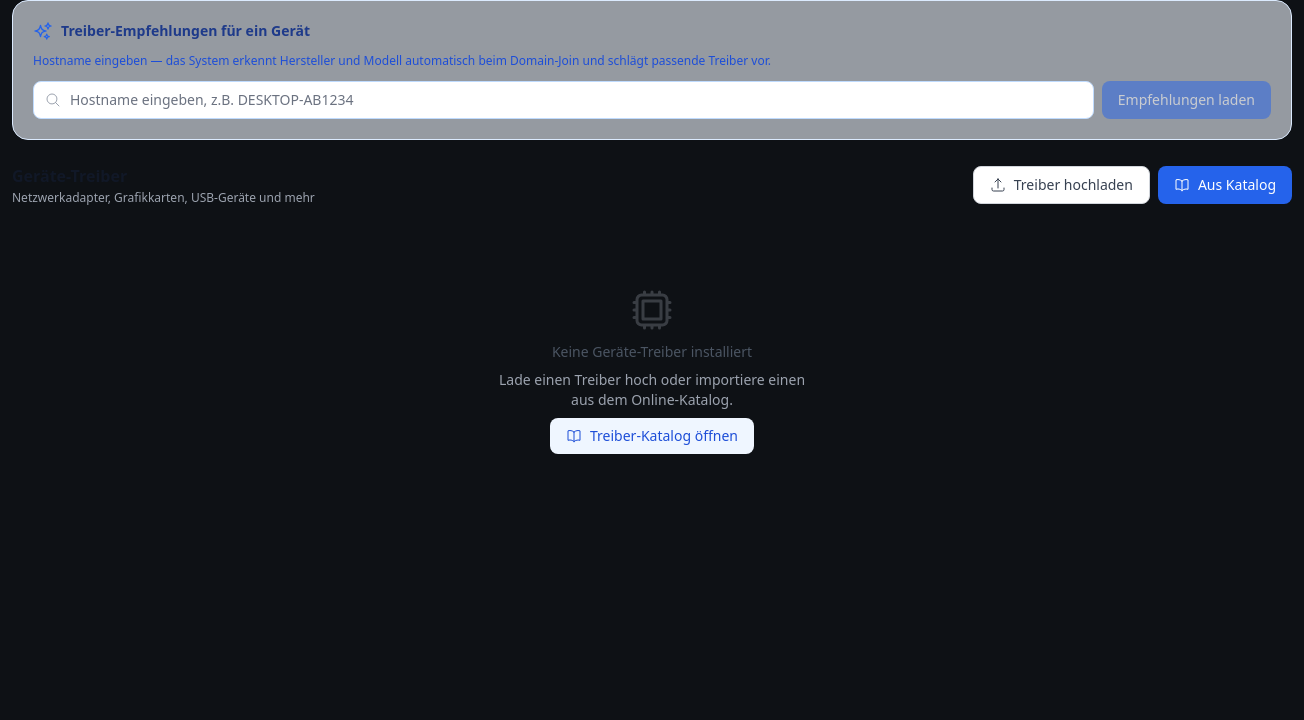
Test: DeviceDriversTab › recommendation with an aptPackage renders an apt-install snippet
Expected: the text "Keine Geräte-Treiber installiert" is shown, x1=552 y1=342 x2=752 y2=362
In the field with placeholder "Hostname eingeben, z.B. DESKTOP-AB1234": (563, 100) x1=33 y1=81 x2=1094 y2=119, type "host1"
Then press Enter
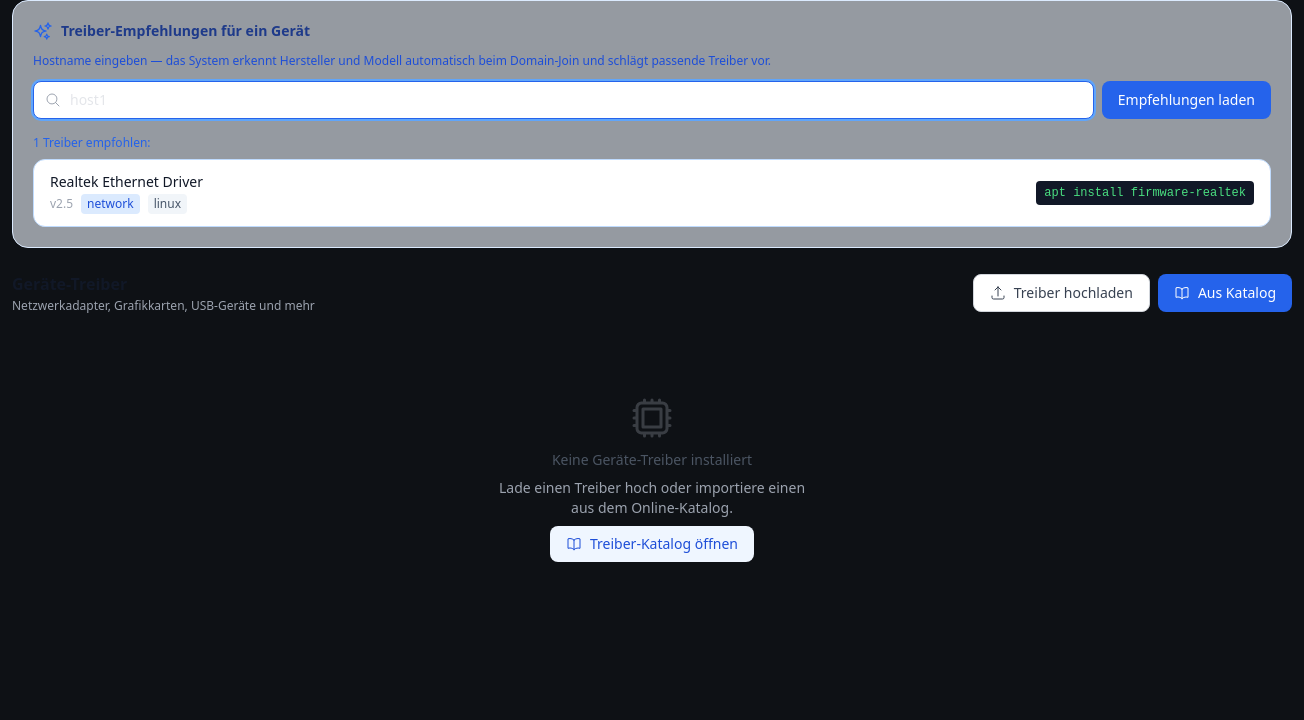
Result: the text "Realtek Ethernet Driver" is shown at x1=50 y1=172 x2=203 y2=191
Result: the text "apt install firmware-realtek" is shown at x1=1036 y1=181 x2=1254 y2=205
